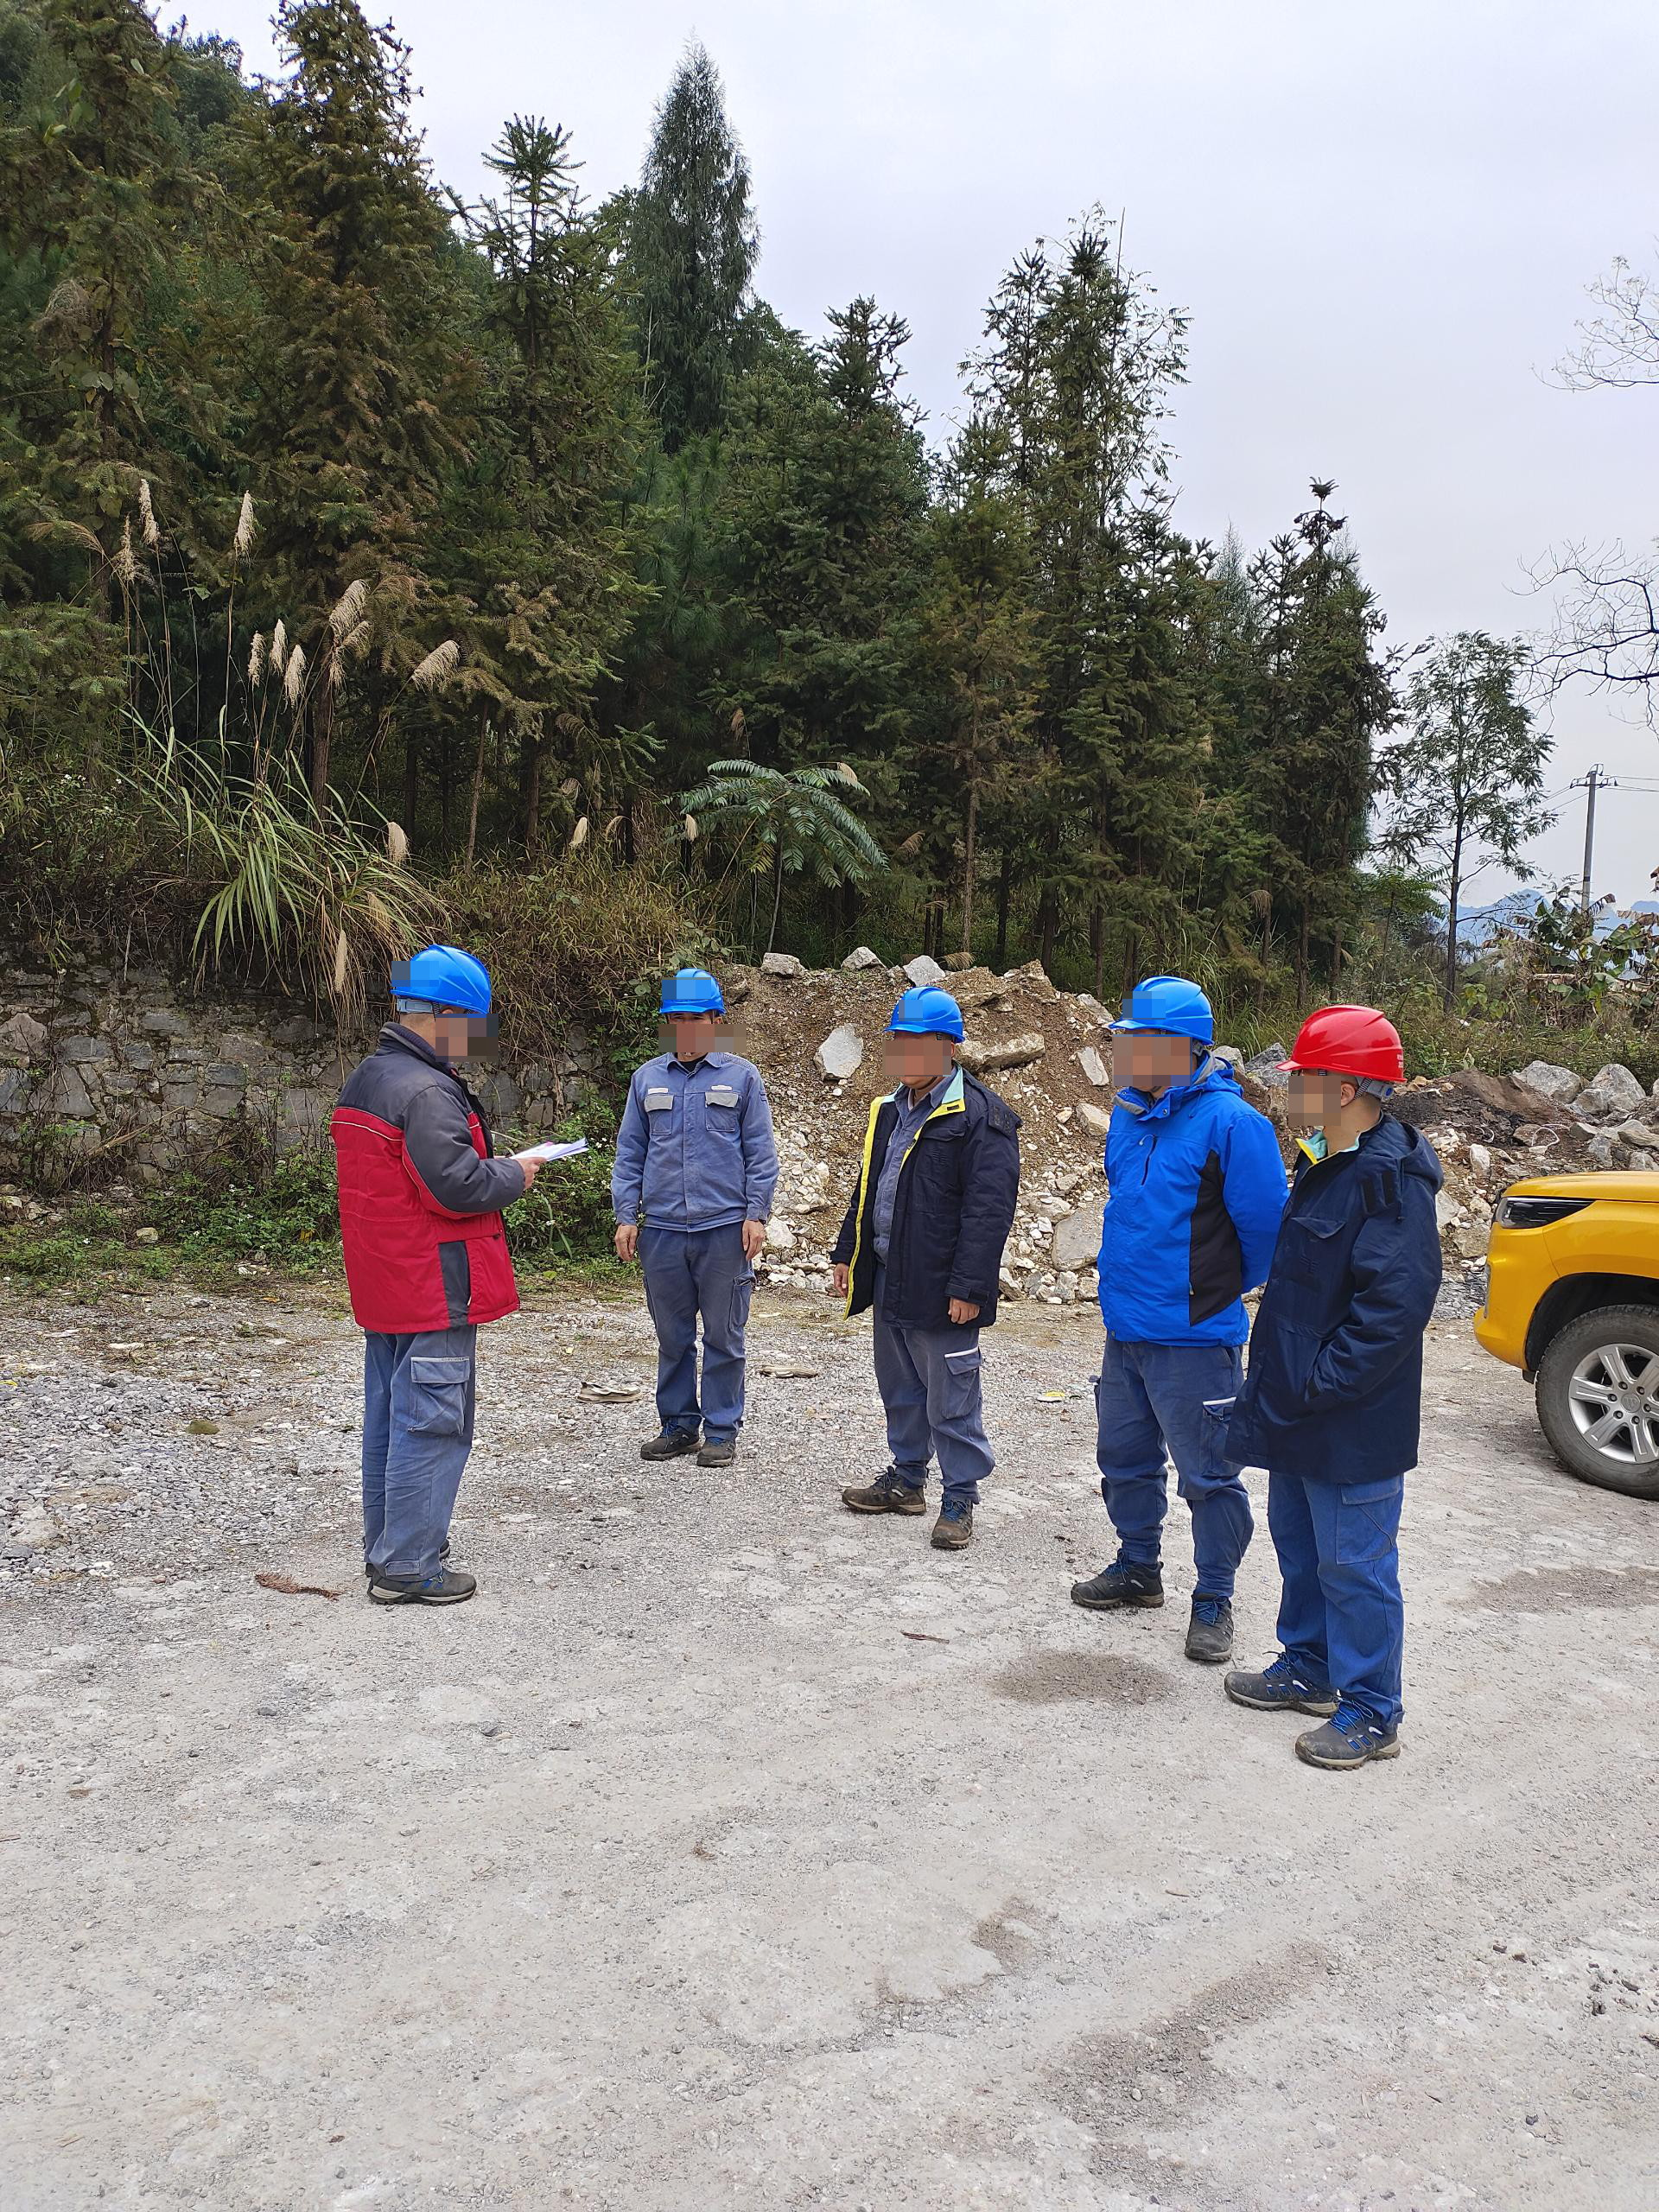downsuit: (1269, 1465, 1418, 1713), (1093, 1351, 1252, 1575), (356, 1334, 481, 1583), (639, 1236, 755, 1444), (872, 1327, 994, 1488)
halt: (1281, 1005, 1410, 1136), (387, 944, 499, 1067), (1109, 974, 1222, 1088), (882, 985, 970, 1084), (656, 969, 734, 1059)
hand: (733, 1216, 768, 1261), (516, 1154, 550, 1192), (612, 1221, 640, 1261), (950, 1294, 981, 1327), (829, 1262, 854, 1300)
inear: (1307, 1071, 1363, 1122), (1151, 1033, 1195, 1089), (434, 1000, 468, 1058), (931, 1037, 961, 1079)
person: (1223, 1002, 1447, 1766), (322, 941, 537, 1605), (1074, 978, 1287, 1637), (835, 978, 1029, 1551), (605, 962, 784, 1456)
upcloth: (1227, 1123, 1443, 1478), (332, 1041, 523, 1334), (1094, 1054, 1278, 1349), (836, 1059, 1024, 1325)
upsuit: (611, 1051, 784, 1232)
